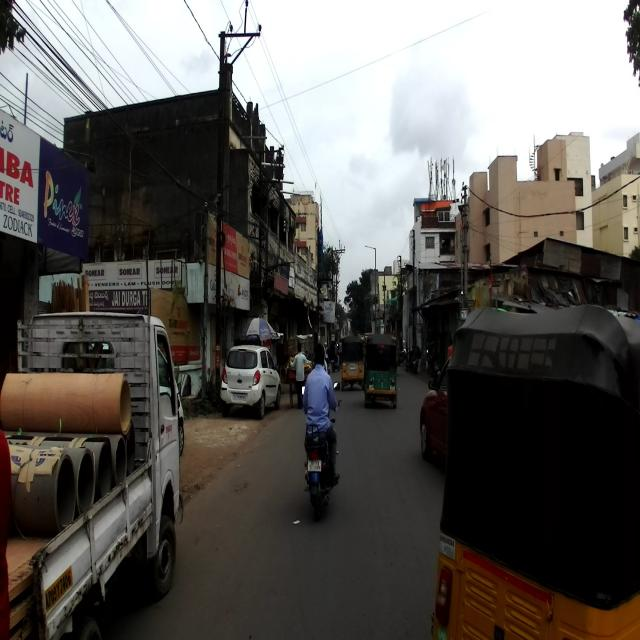autorickshaw: (426, 300, 639, 639), (363, 334, 402, 412)
car: (220, 344, 281, 419)
motorcycle: (300, 381, 342, 516)
truck: (0, 308, 191, 638)
